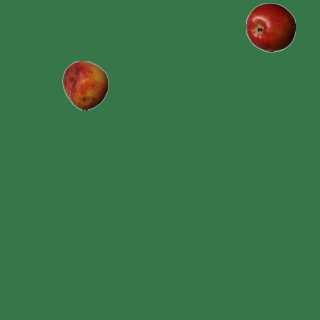Apple Braeburn: (245, 2, 295, 52)
Peach: (60, 60, 110, 110)
